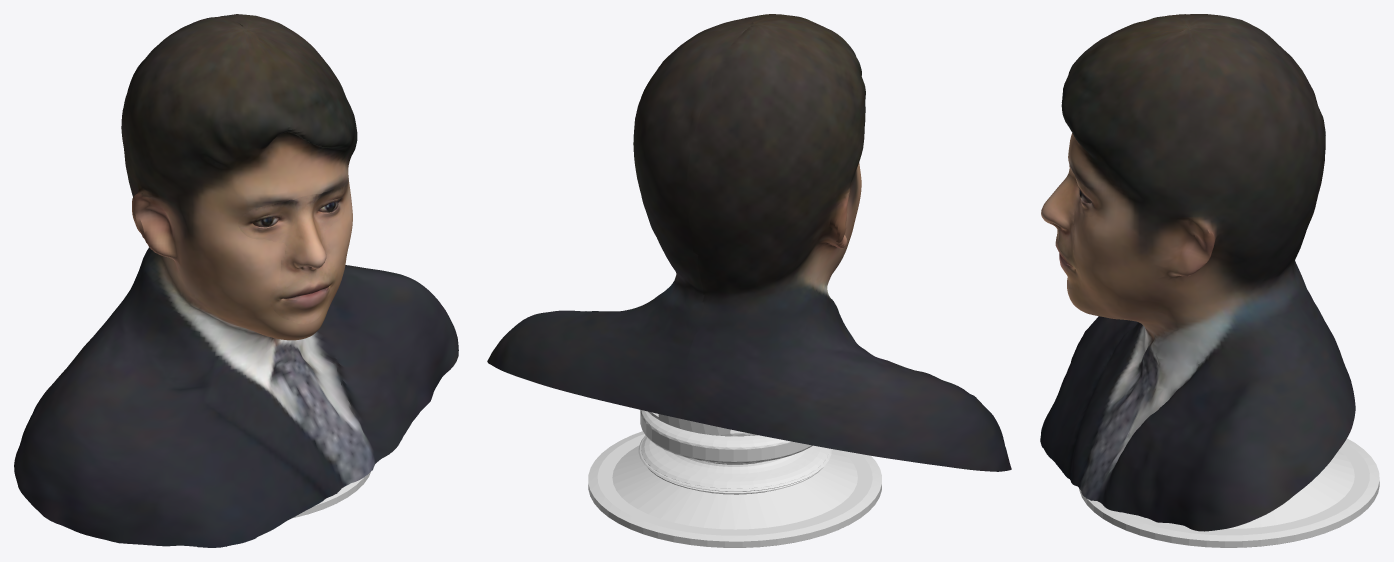
The model's file is efren.gltf.
3 views of the same model, side by side, from view 1: azimuth 30°, elevation 25°; view 2: azimuth 150°, elevation 25°; view 3: azimuth 270°, elevation 25° (orthographic). The views are drawn at different scales.
Visible parts, largest first — view 1: model.001, 57mm-tall-queen; view 2: model.001, 57mm-tall-queen; view 3: model.001, 57mm-tall-queen.
Part boxes in pixels (left/top/right/bottom): model.001: left=14, top=14, right=458, bottom=547; 57mm-tall-queen: left=292, top=472, right=370, bottom=518; model.001: left=487, top=14, right=1011, bottom=471; 57mm-tall-queen: left=588, top=410, right=881, bottom=547; model.001: left=1040, top=14, right=1355, bottom=531; 57mm-tall-queen: left=1079, top=438, right=1379, bottom=547.
Size of the model in its own units: 7.53 by 6.93 by 4.63.
1 material, 1 textured.
